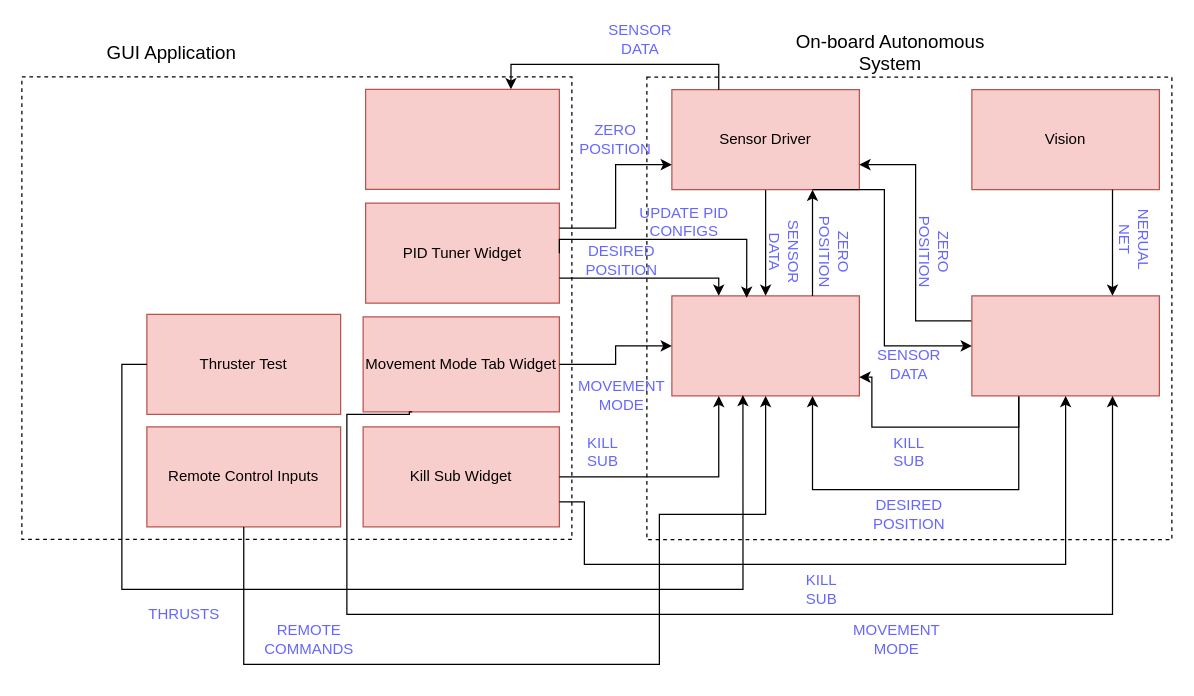
This 1194x696 diagram has some shape labels left out. The box of each missing label's shape, as (x1, y1, x2, y2) in pixels:
Mission Commander: (971, 295, 1159, 396)
Navigation Controller: (671, 295, 859, 396)
Navigation/Odometry Widget: (364, 88, 559, 189)
